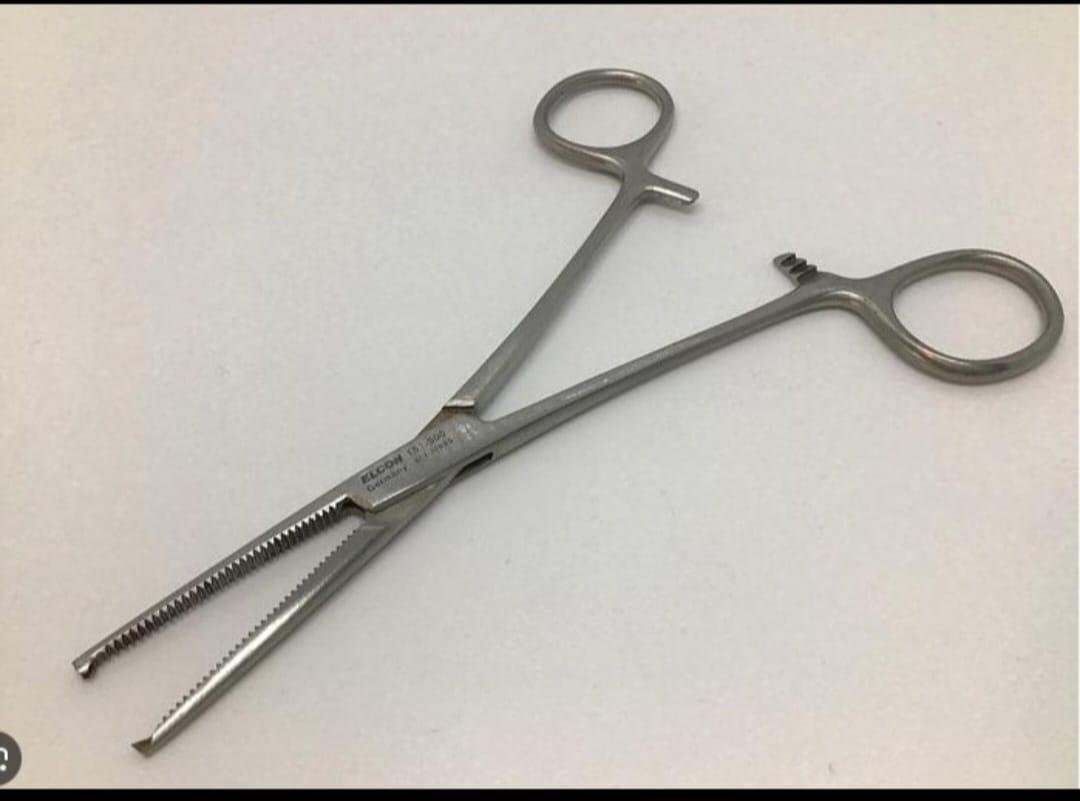Kocher Forceps: (59, 56, 1063, 760)
